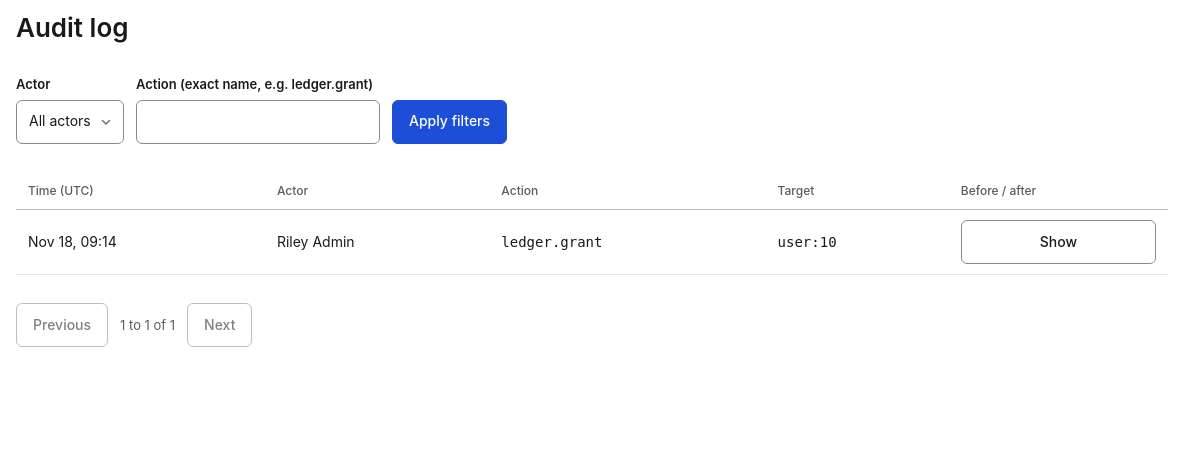
ADM-3 audit log page › expands the before and after JSON
Step 1. Click the button with aria-label "Show before and after for entry 1" → click(1058, 242), box [961,220,1156,264]
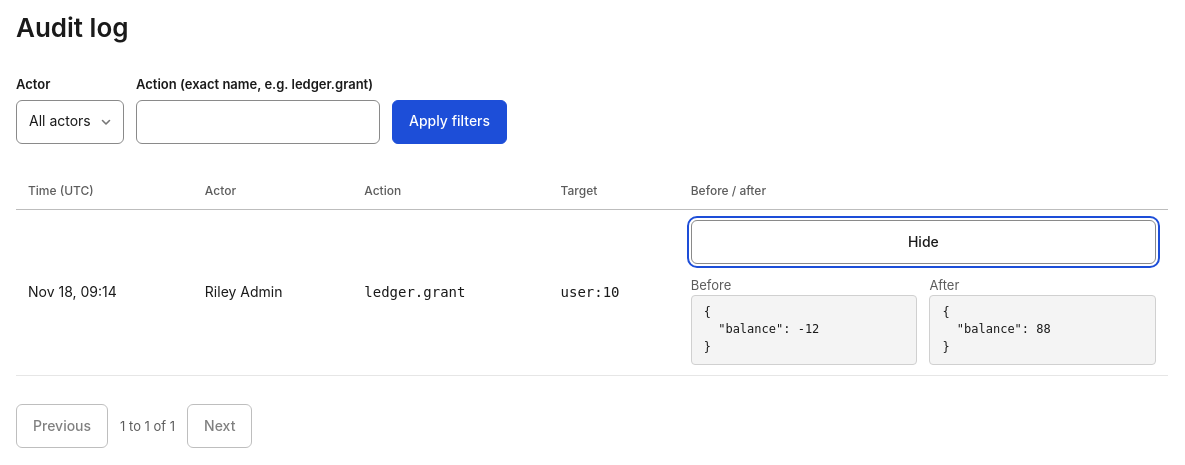
Now the text "{ \"balance\": -12 }" is shown, box [691,295,917,365]
Now the text "{ \"balance\": 88 }" is shown, box [929,295,1156,365]
